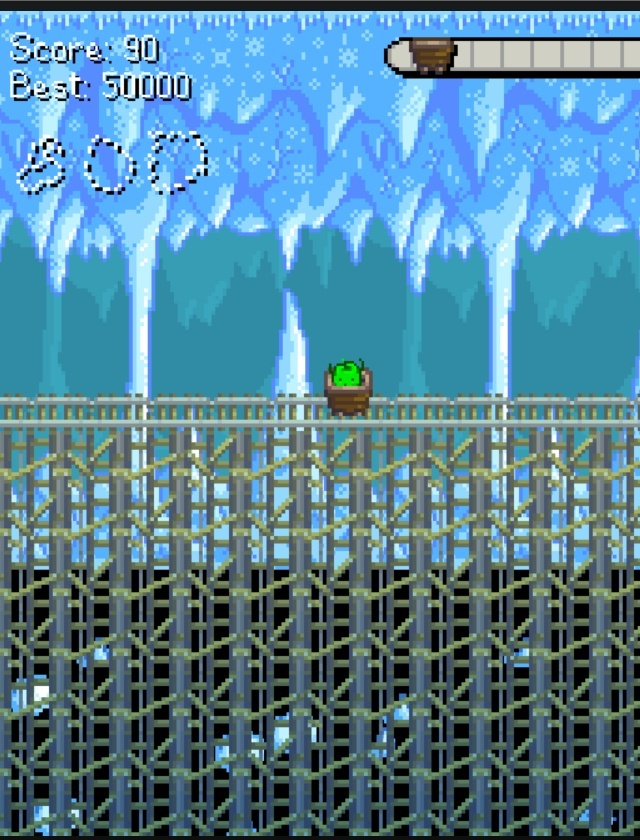minecart: (325, 369, 371, 414)
score: (123, 30, 161, 66)
tracks: (0, 388, 312, 430)
